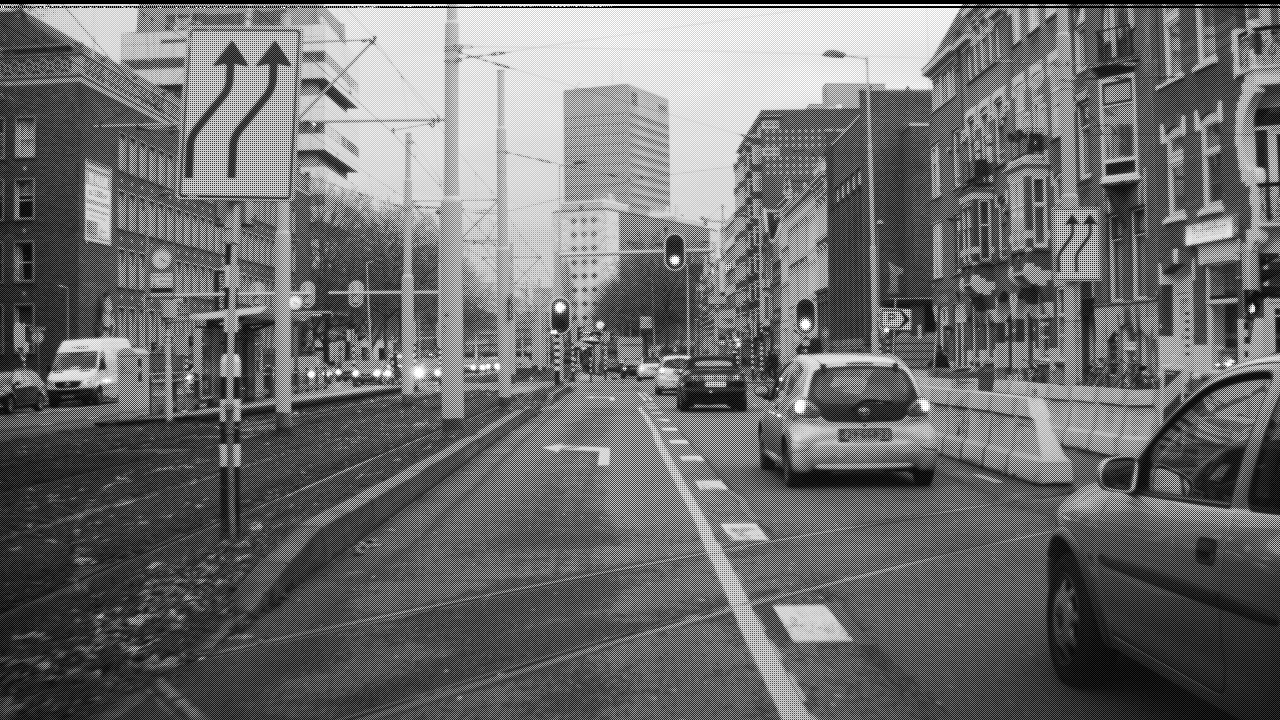pole: (1055, 6, 1084, 386), (440, 2, 460, 422), (497, 63, 513, 398), (864, 54, 879, 345), (277, 190, 293, 423), (401, 123, 413, 396)
